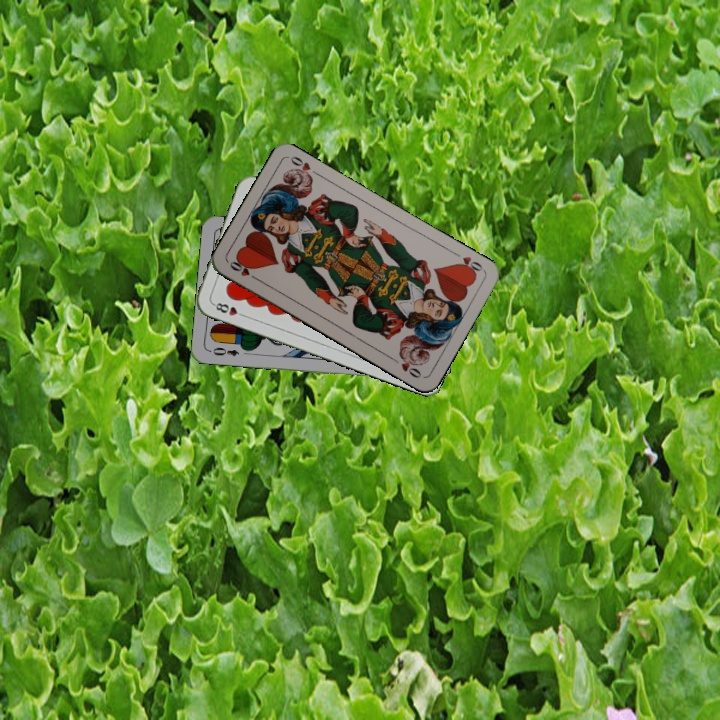EO: (205, 343, 242, 359)
H8: (209, 298, 248, 319)
HO: (225, 256, 262, 283), (452, 252, 486, 278)
